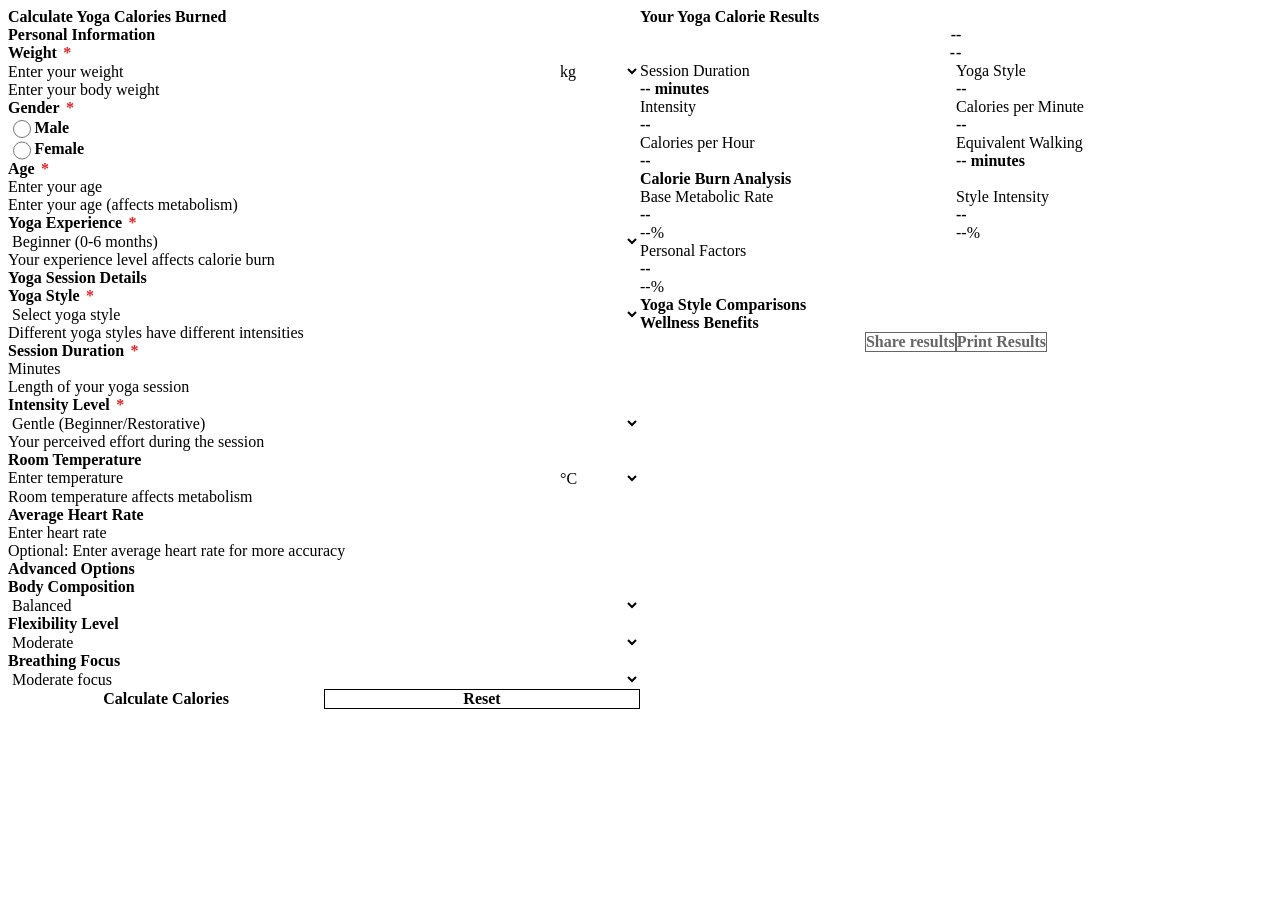
Test: YogaCalorieCalculator › computes the source Vinyasa example end-to-end
This screenshot has width=1280, height=900.
Type "70" into the number field labelled "weight".
click(282, 72); type("70")  # box [8,62,556,81]
Click the radio button labelled "Male".
click(22, 129)  # box [13,120,31,138]
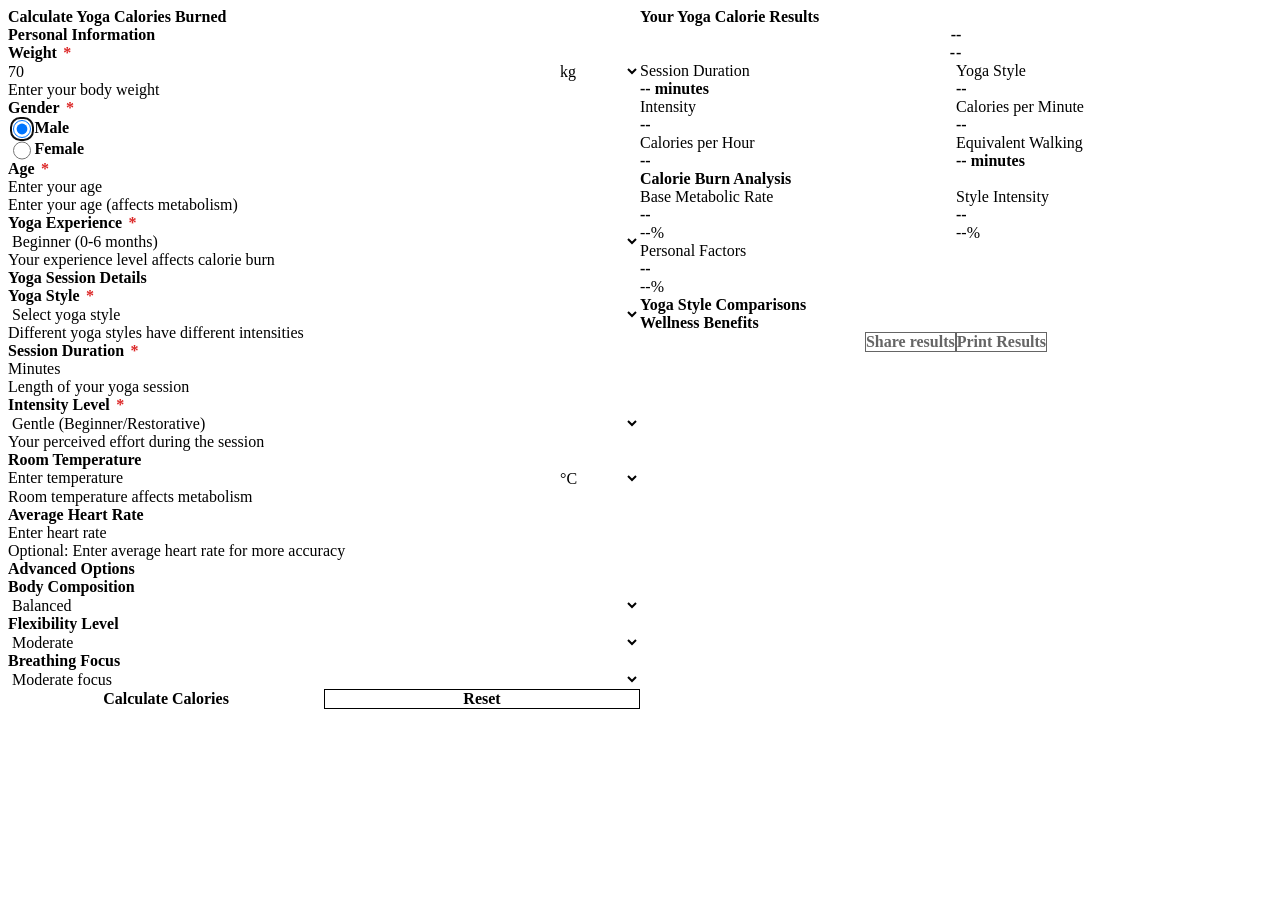
Type "30" into the number field labelled "Age".
click(324, 187); type("30")  # box [8,178,640,196]
Select "Intermediate (6 months-2 years)" in the dropdown labelled "Yoga Experience" at (324, 241), box [8,232,640,251]
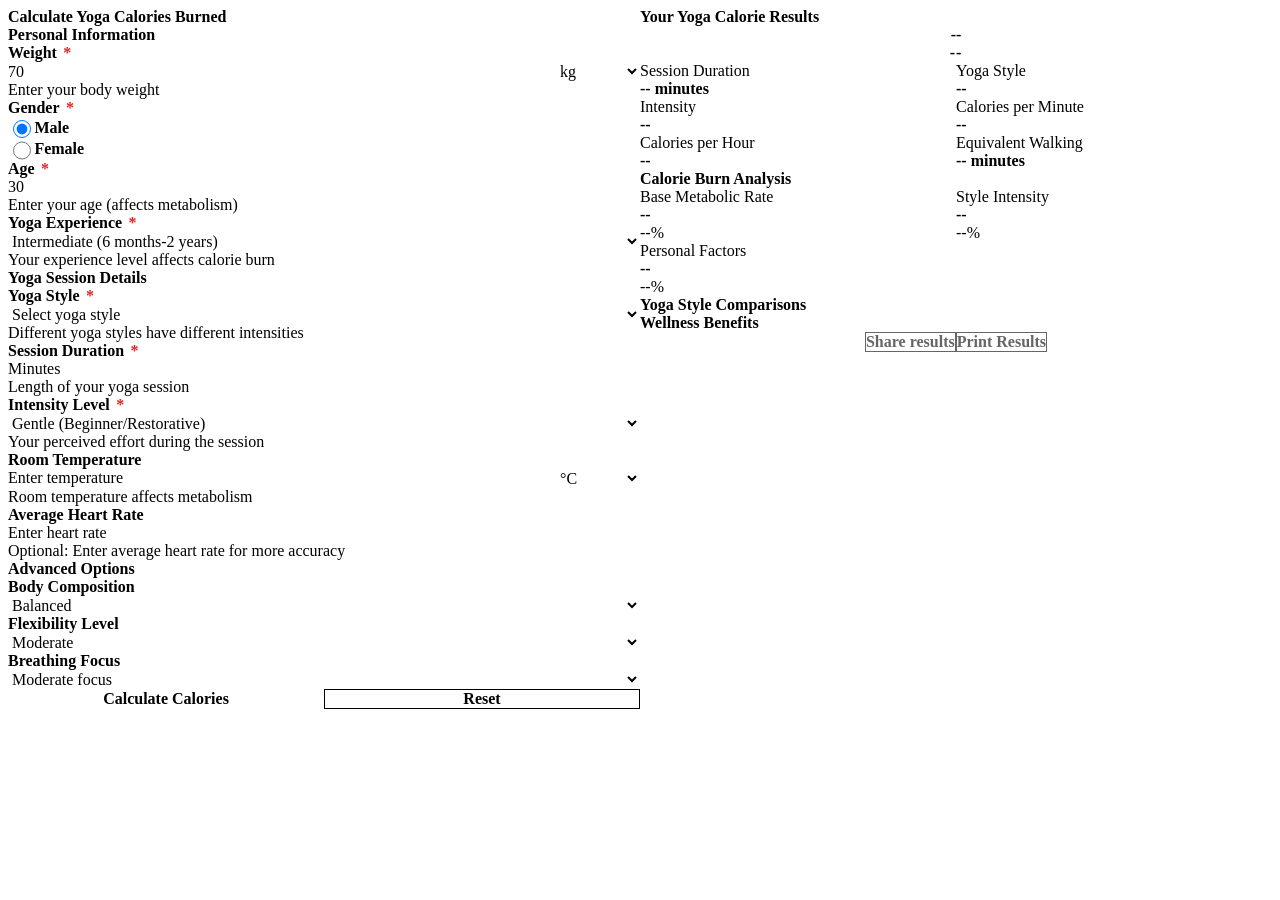
Select "Vinyasa Flow" in the dropdown labelled "Yoga Style" at (324, 314), box [8,305,640,324]
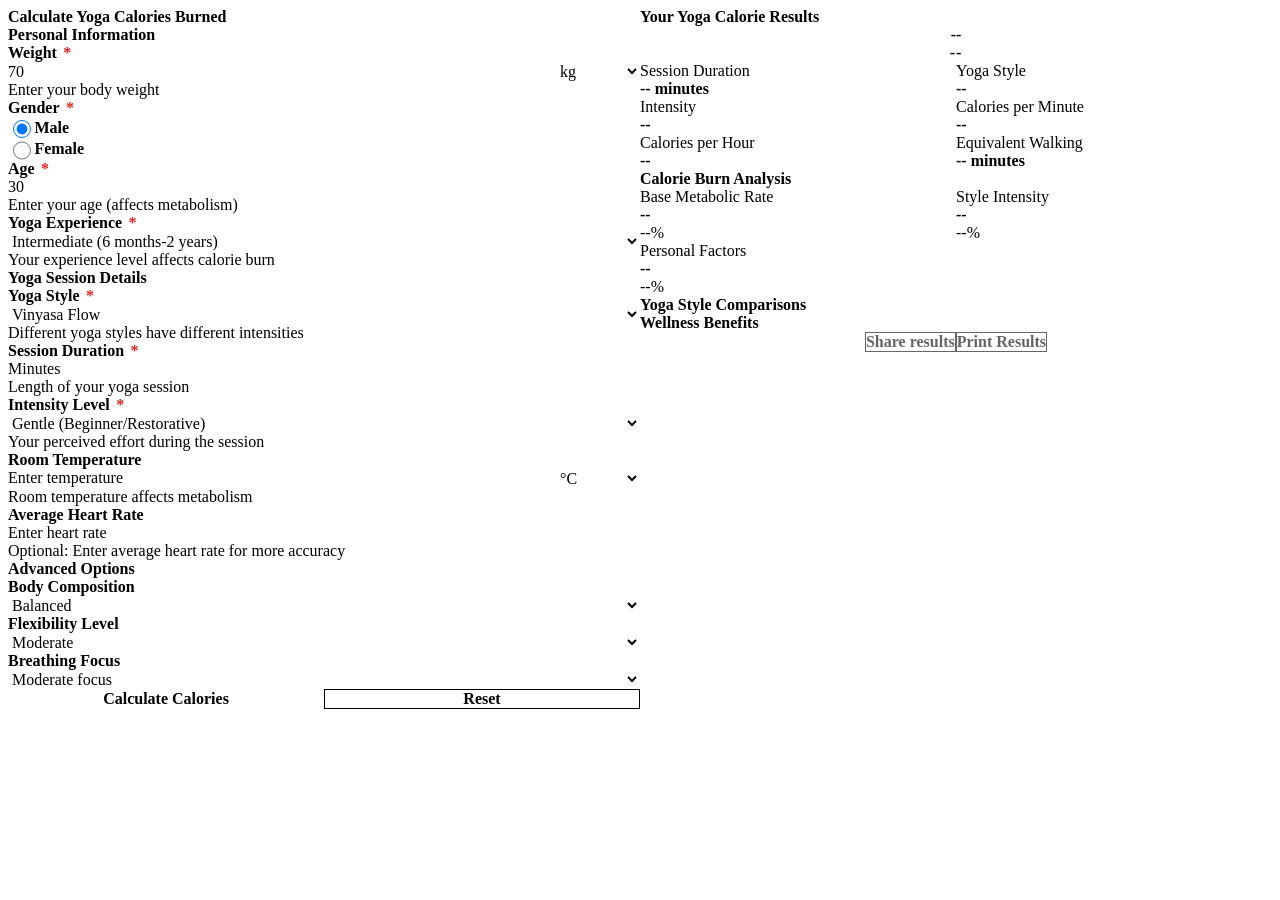
Type "60" into the number field labelled "Session Duration".
click(324, 369); type("60")  # box [8,360,640,378]
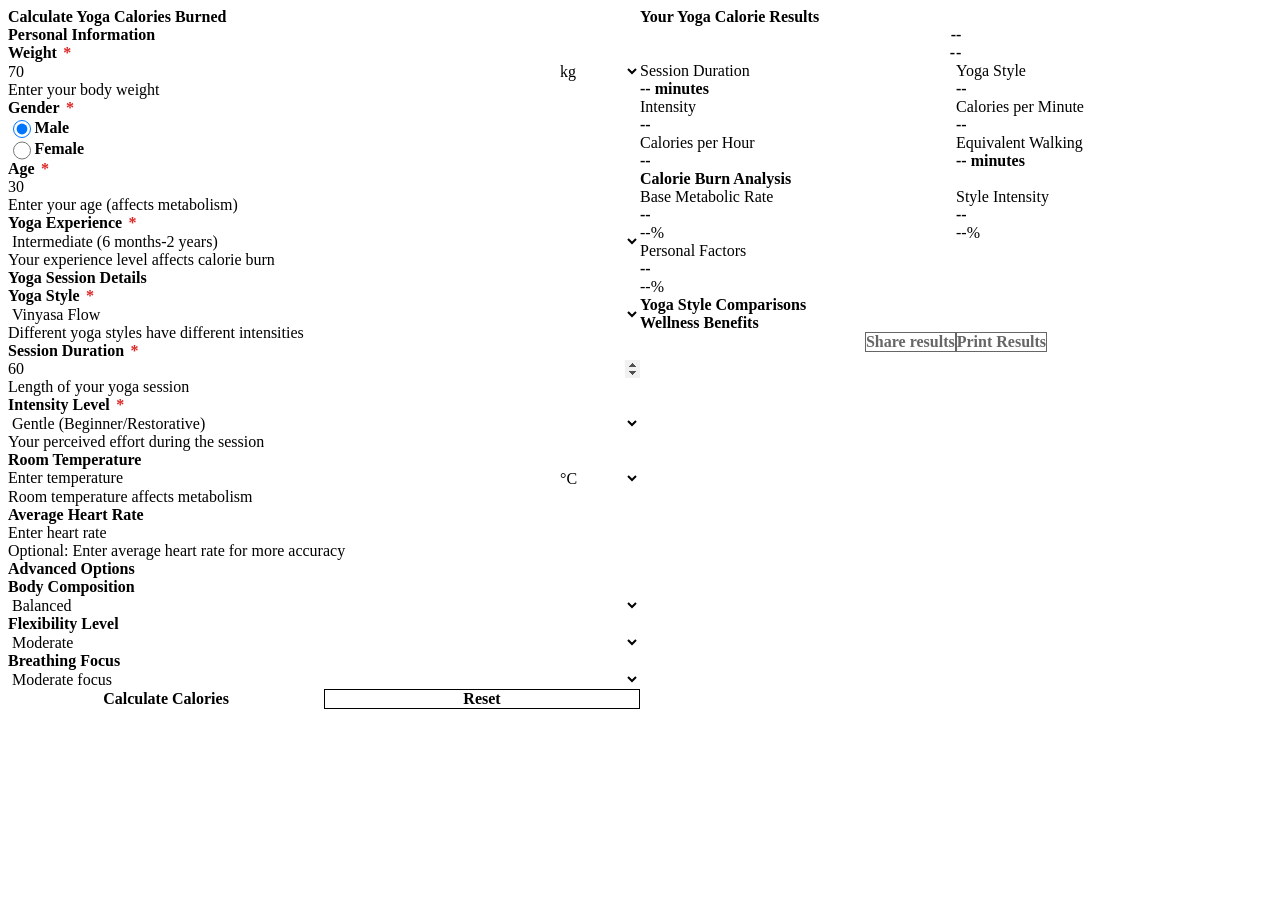
Select "Moderate (Intermediate)" in the dropdown labelled "Intensity Level" at (324, 423), box [8,414,640,433]
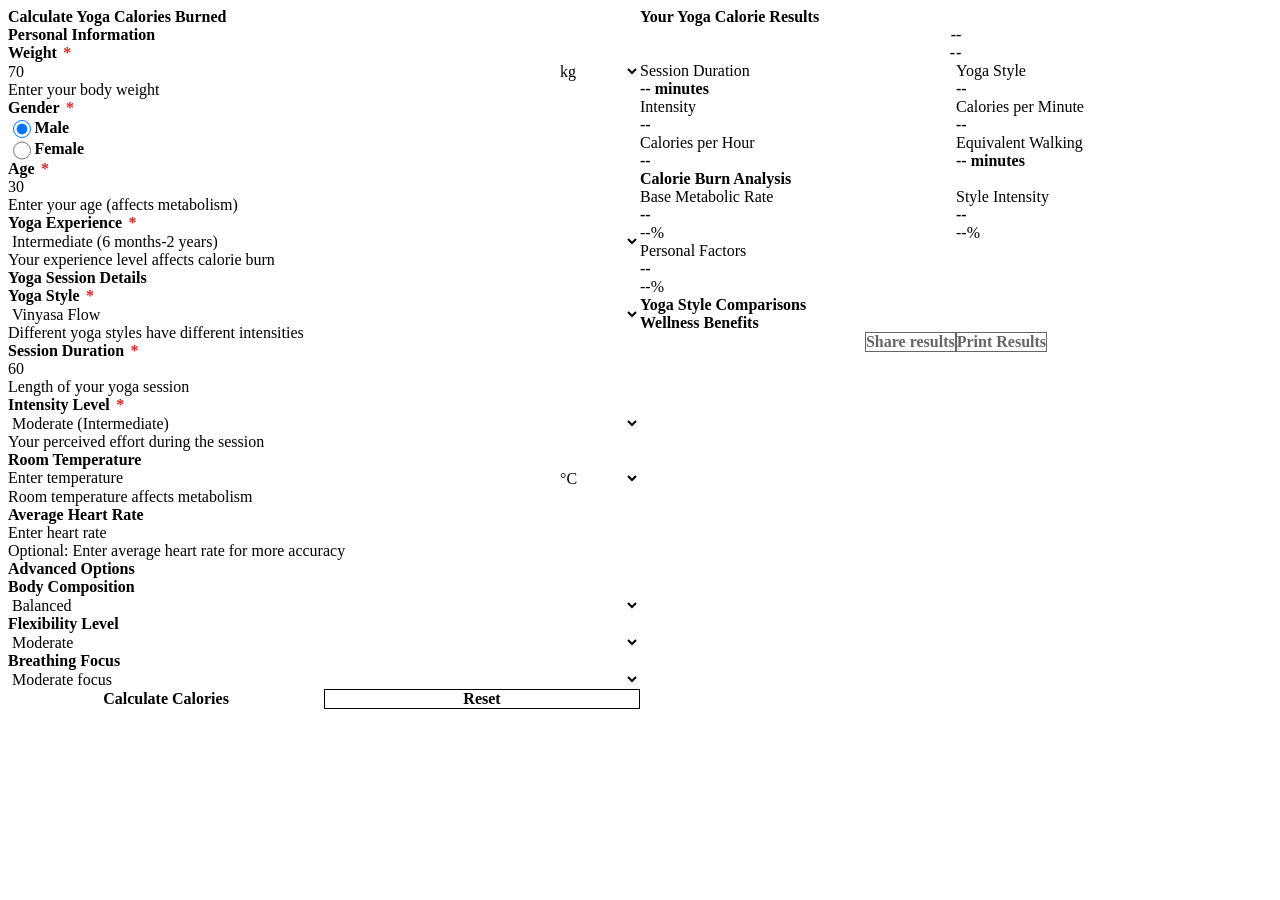
Click the button "Calculate Calories".
click(166, 699)  # box [8,689,324,709]
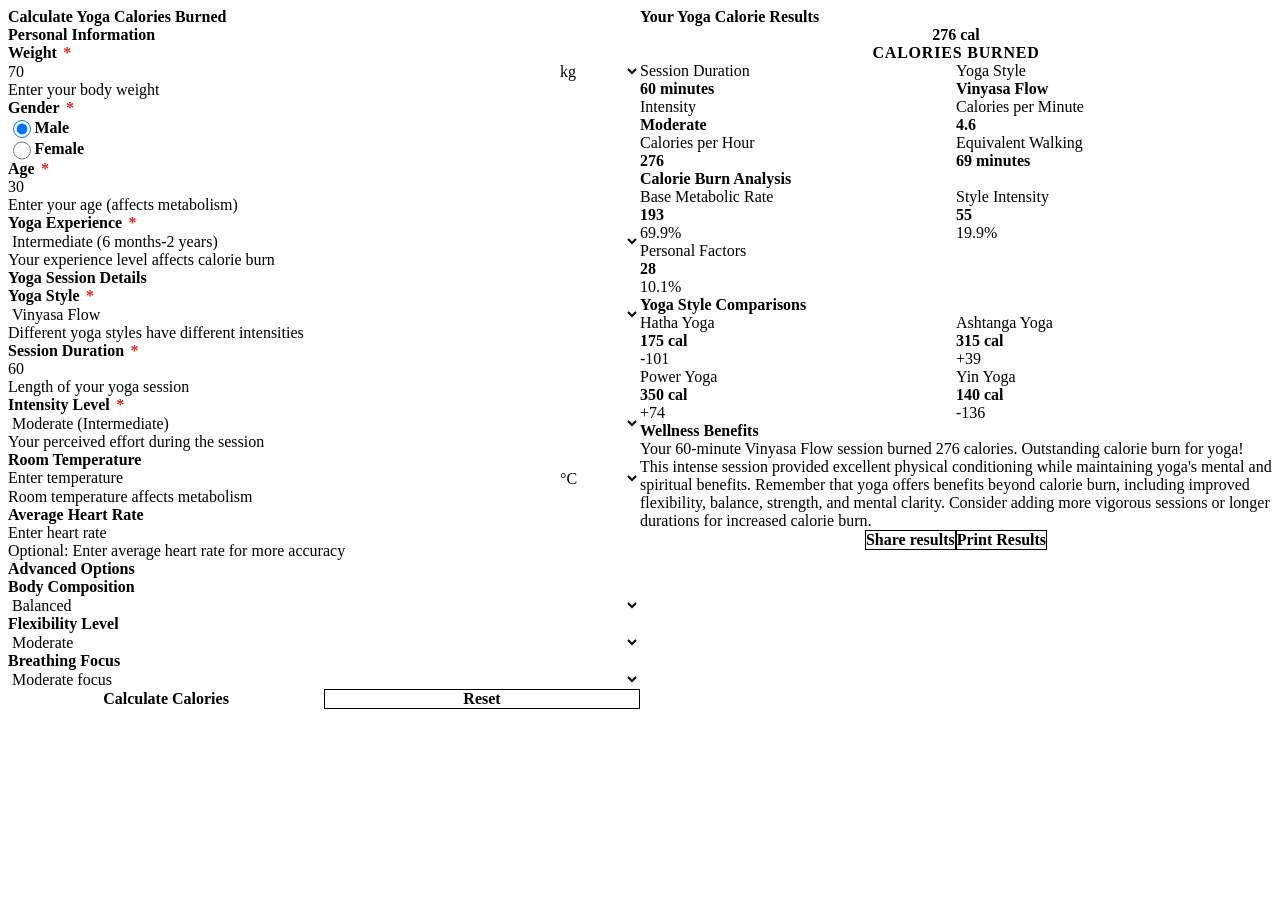
Check: the element "Your Yoga Calorie Results" shows "276 cal", box [932,26,980,43]
Check: the element "Your Yoga Calorie Results" shows "Calories Burned", box [872,44,1040,61]
Check: the element "Your Yoga Calorie Results" shows "60 minutes", box [640,80,714,97]
